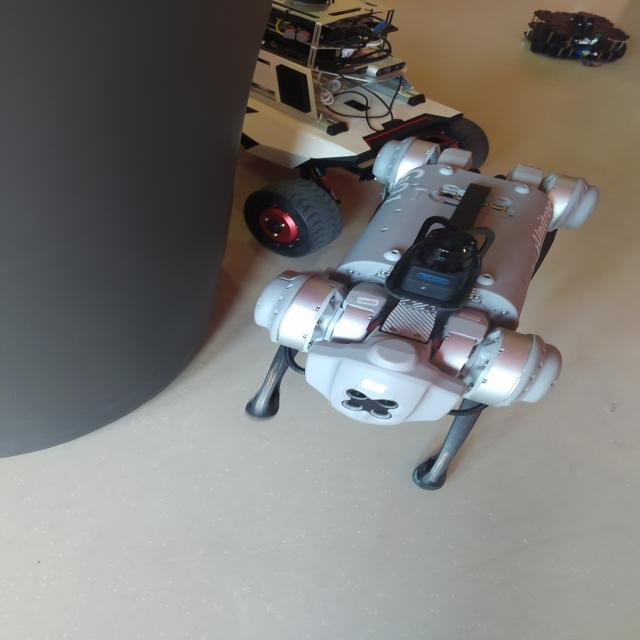unitree-go1-robot: (256, 138, 598, 486)
